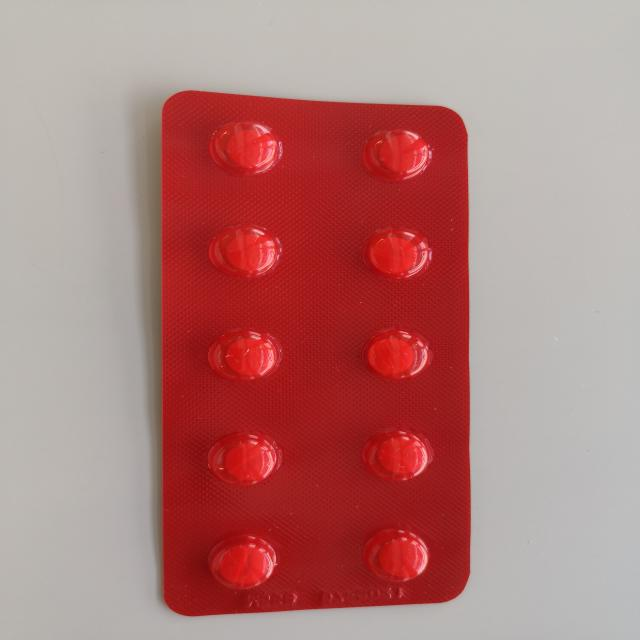Pill: (194, 531, 290, 600), (198, 426, 288, 493), (202, 216, 286, 286), (353, 324, 441, 387), (202, 323, 284, 390), (361, 526, 443, 592), (204, 115, 288, 179), (357, 121, 434, 187), (355, 222, 434, 286), (363, 428, 439, 487)
